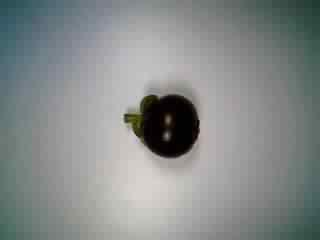mangosteen: (120, 87, 205, 163)
